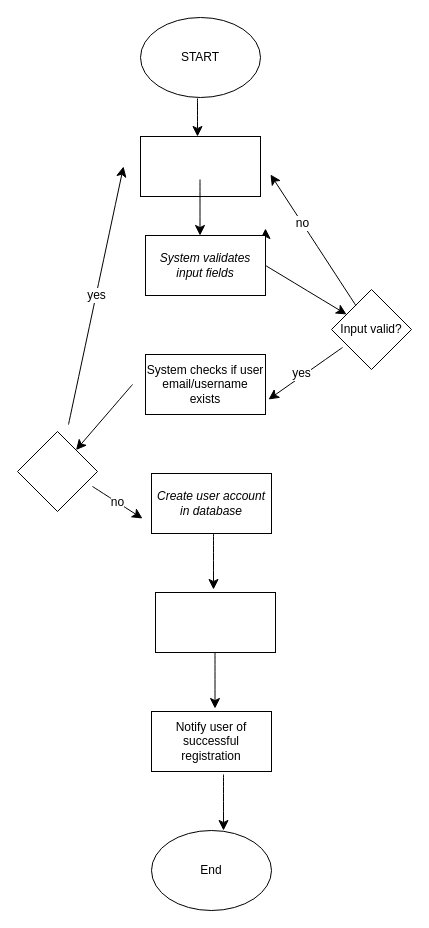
Some shapes in this 429 by 928 pixel diagram are drawn without their labels. The shapes that lost their labels are listed below. From the top down, each one's box as (x1, y1, x2, y2) in pixels, then its label:
(140, 136, 260, 196): registration details username, email, passsword e.t.c
(16, 430, 98, 512): User exists?
(154, 592, 276, 652): : Send confirmation email to user
